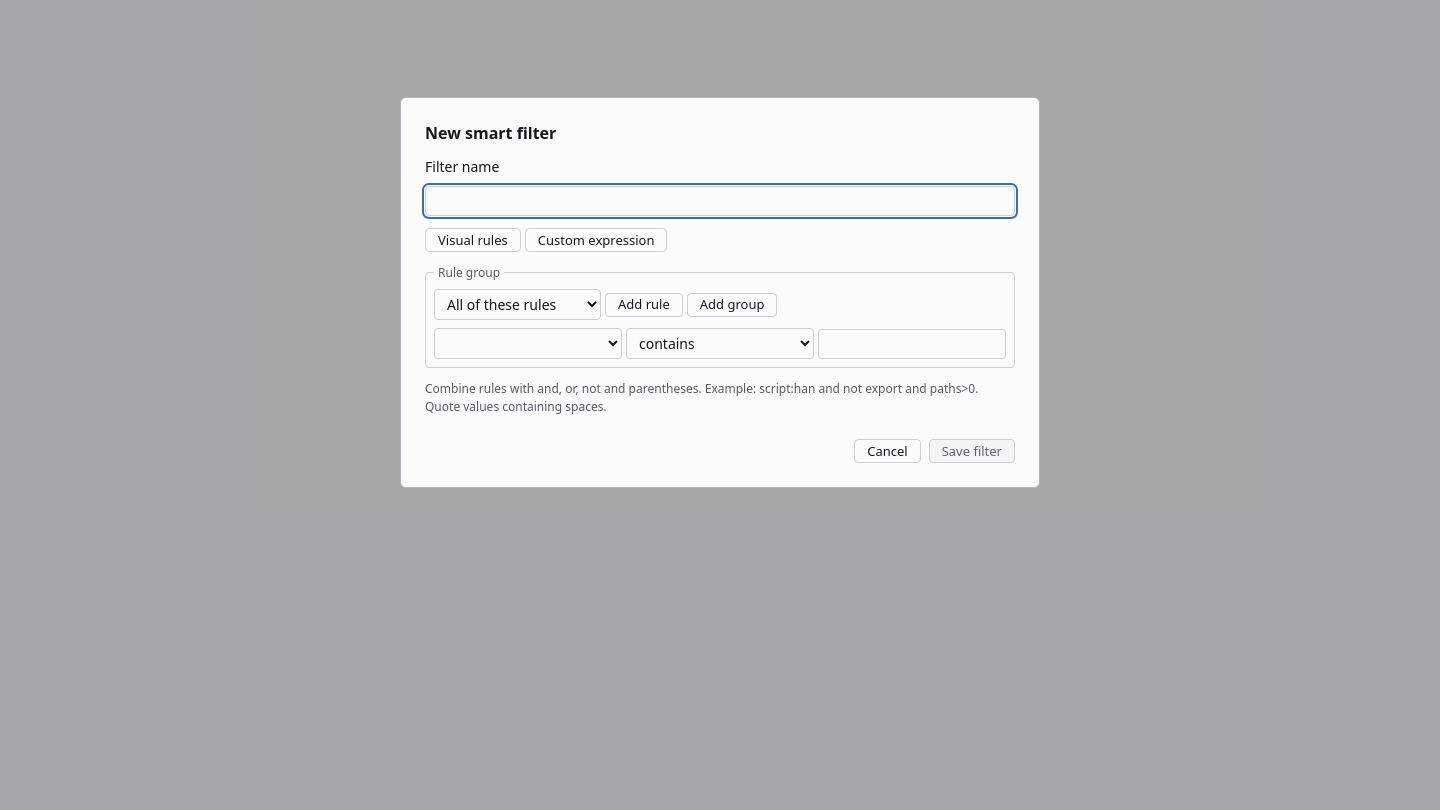
Test: SmartFilterEditor › adds and removes nested groups and preserves edits after a save failure
Step 1. Type "Review" into the field labelled "Filter name" → (720, 201), box [425, 186, 1015, 216]
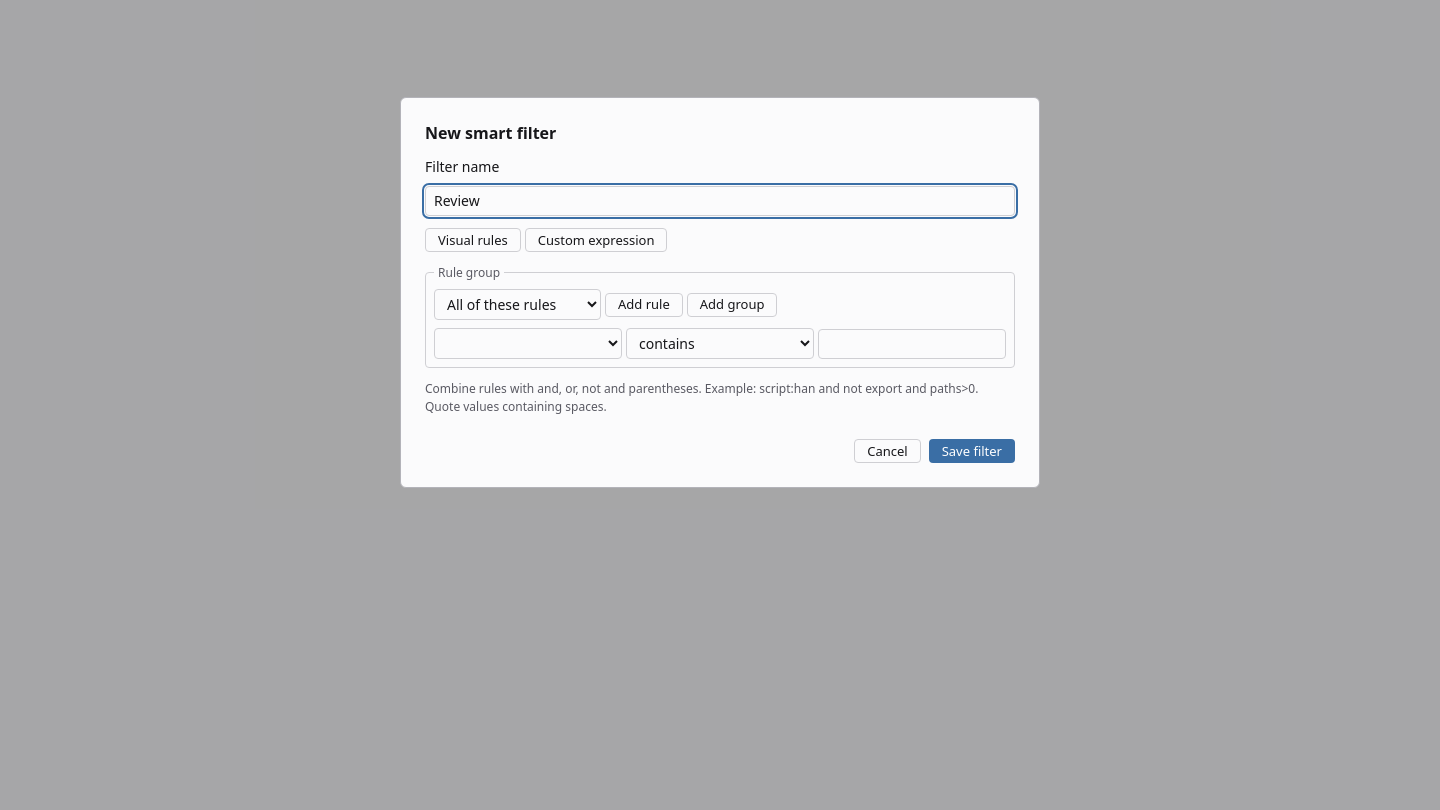
Step 2. Click the button "Add group" → click(732, 305), box [687, 293, 778, 317]
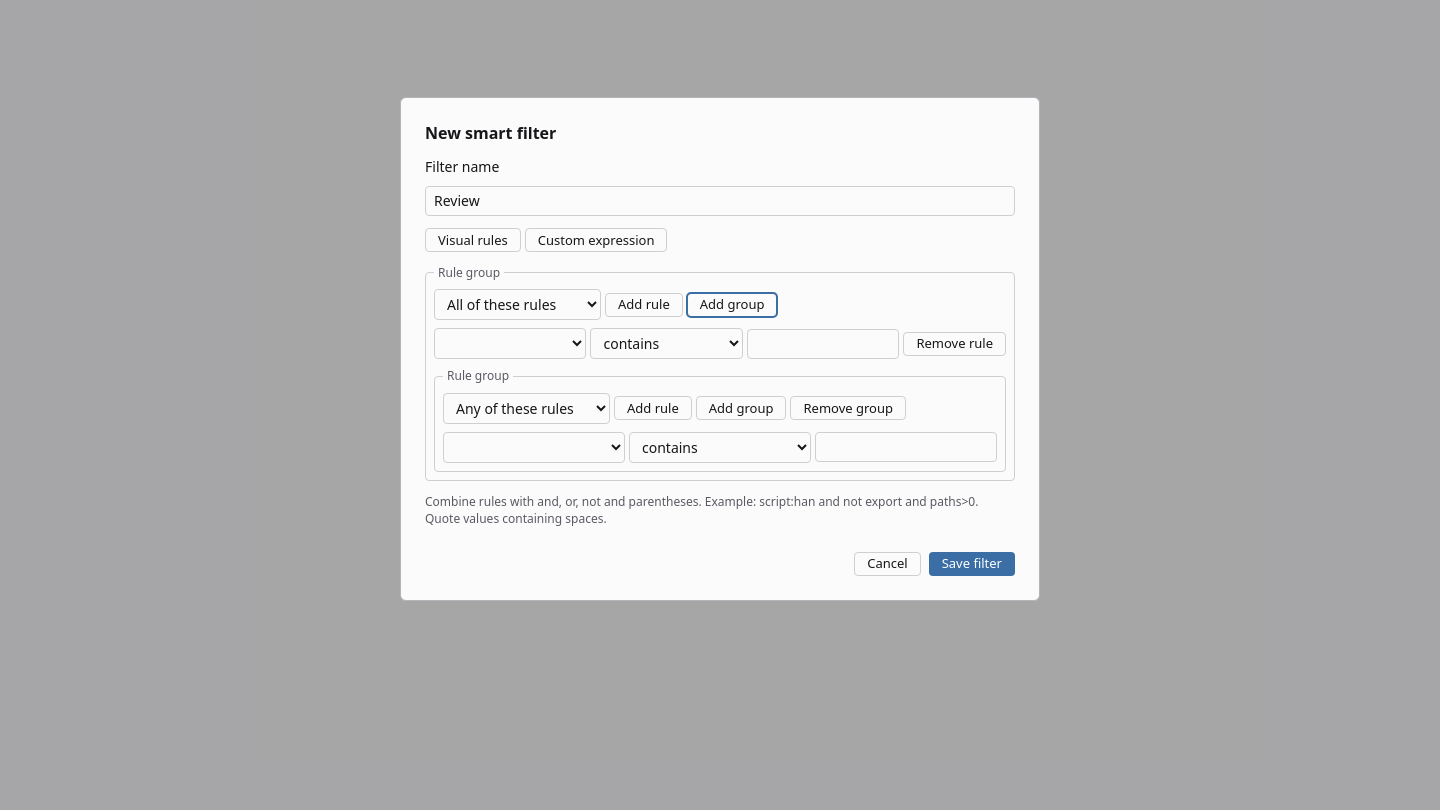
Now the number of dropdowns named "Match rules" is 2, box [434, 289, 601, 320]; [443, 393, 610, 424]
Step 3. Click the button "Remove group" → click(848, 408), box [790, 396, 906, 420]
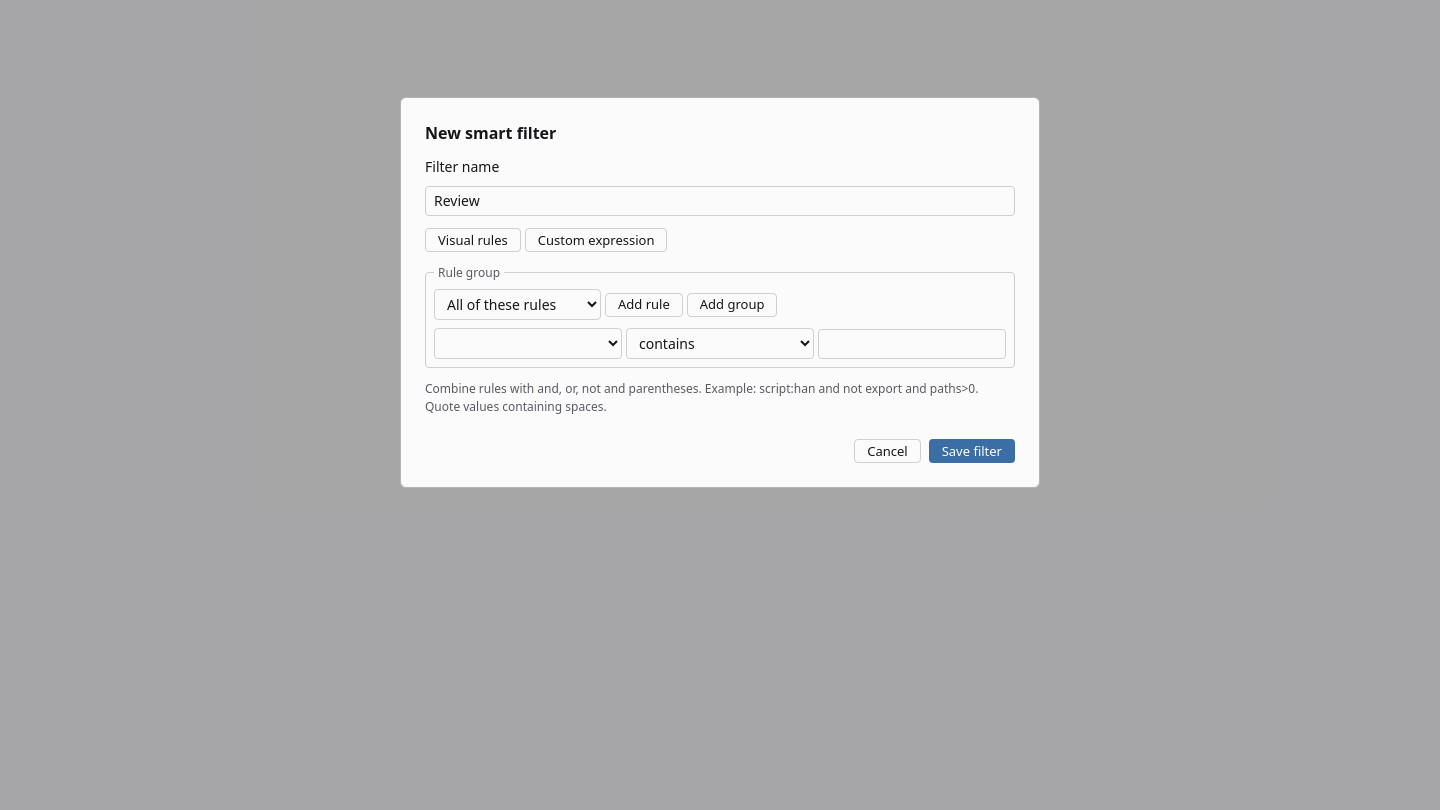
Now the number of dropdowns named "Match rules" is 1, box [434, 289, 601, 320]
Step 4. Click the button "Save filter" → click(972, 451), box [929, 439, 1015, 463]
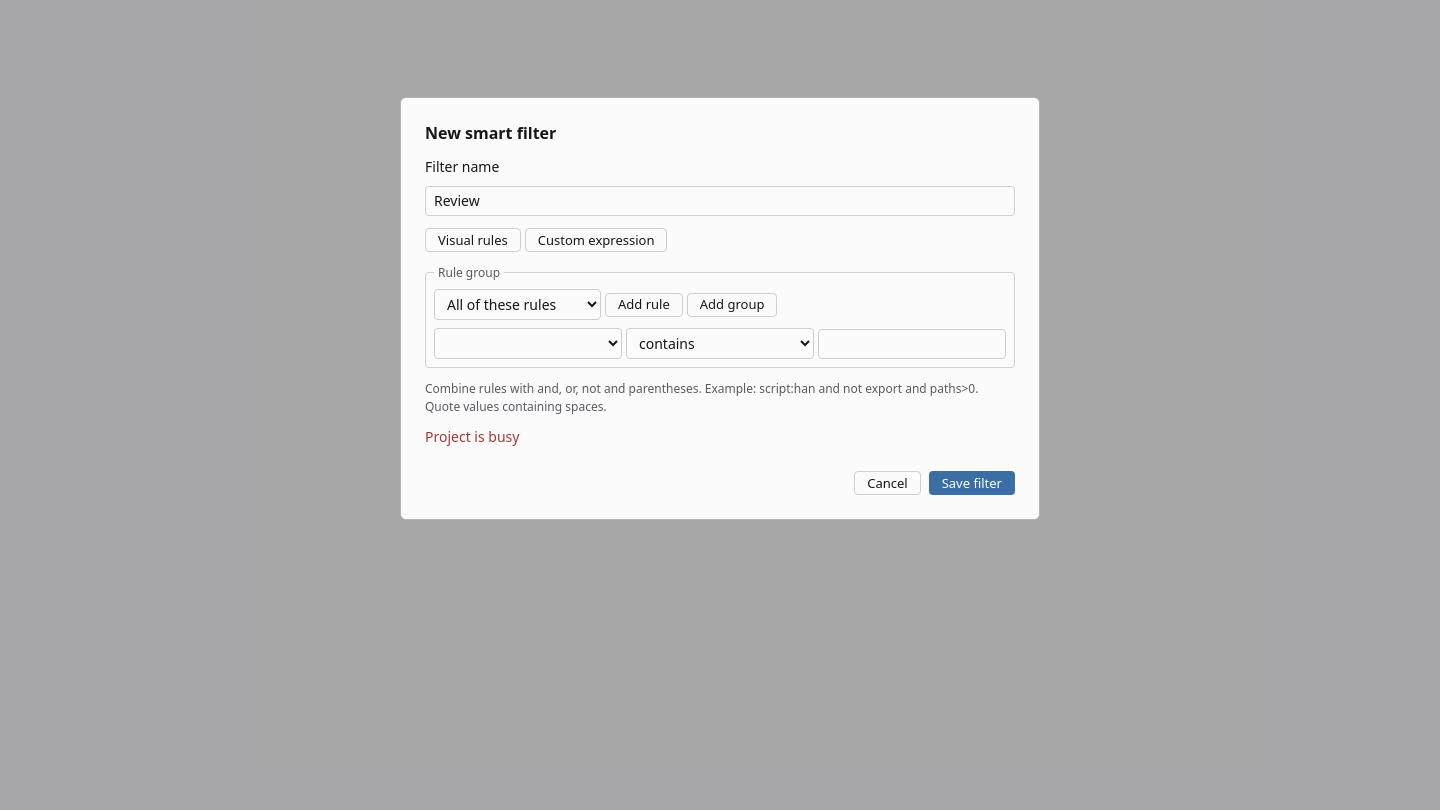
Now the button "Save filter" is enabled, box [929, 471, 1015, 495]
Now the message reads "Project is busy", box [425, 427, 519, 446]
